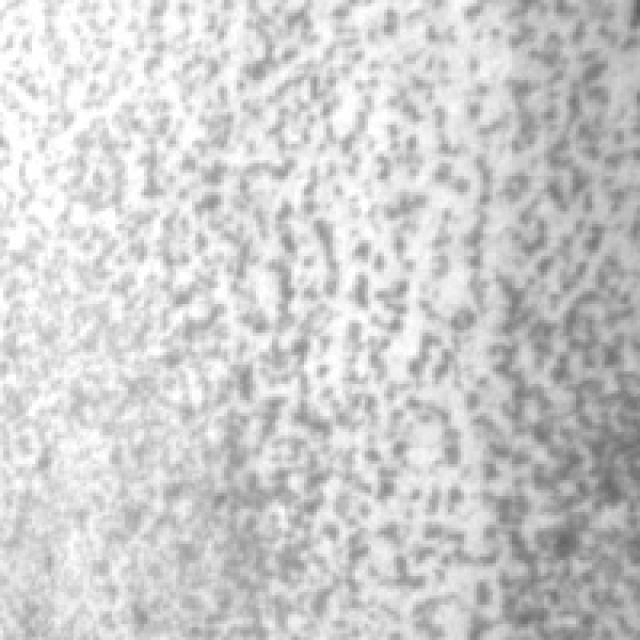pitted_surface: (0, 0, 624, 637)
